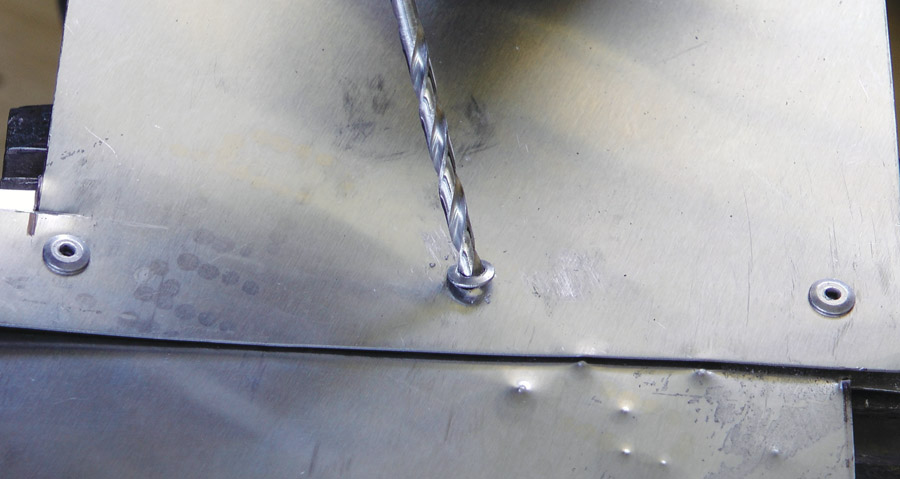rivet: (42, 234, 92, 278), (443, 254, 498, 292), (808, 279, 856, 318)
